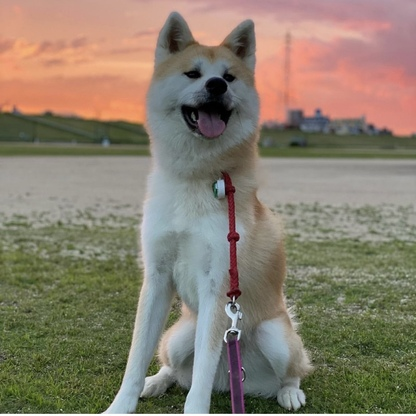akita: (96, 7, 321, 416)
